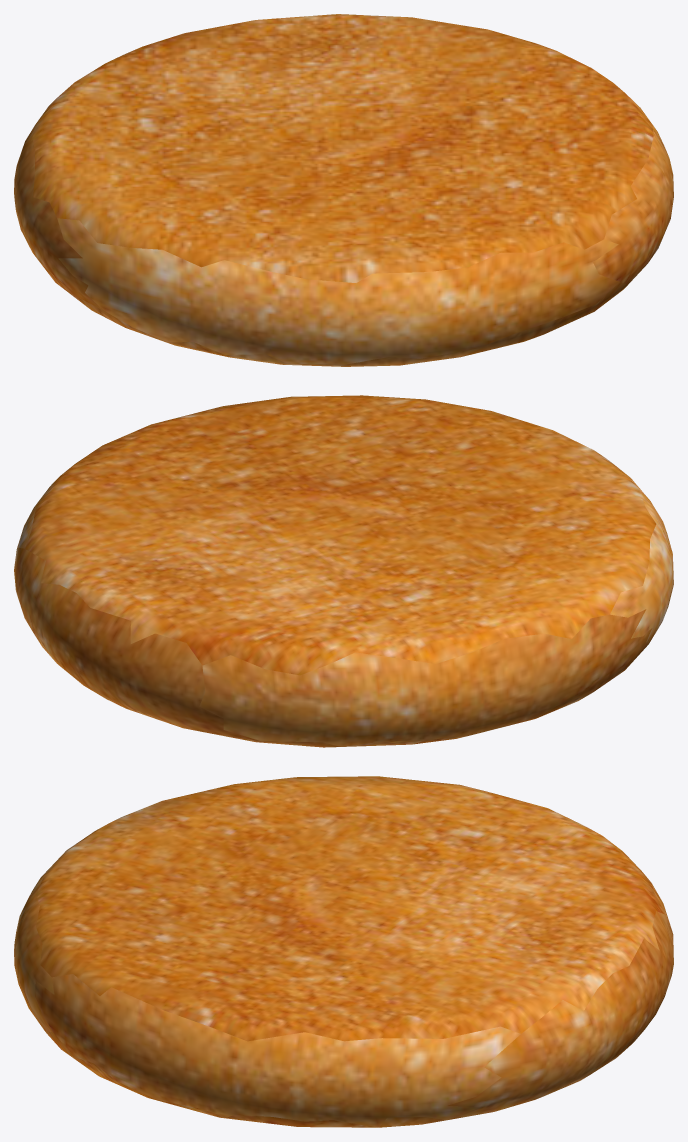
File: hamburguesa_paninferior.fbx
3 renders of one model, top to bottom at view 1: azimuth 30°, elevation 25°; view 2: azimuth 150°, elevation 25°; view 3: azimuth 270°, elevation 25°, orthographic.
Visible parts, largest first — view 1: Pan_Inferior; view 2: Pan_Inferior; view 3: Pan_Inferior.
Boxes of the visible parts, x1=… form: Pan_Inferior: x1=14, y1=14, x2=673, y2=366; Pan_Inferior: x1=14, y1=395, x2=673, y2=747; Pan_Inferior: x1=14, y1=776, x2=673, y2=1127.
Bounding box in the file's own units: 259 × 46.78 × 258.
Materials: 1 (1 with a texture image).
